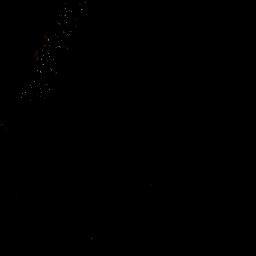boat: (20, 0, 100, 107), (89, 236, 94, 244), (149, 181, 154, 186), (158, 8, 160, 12)
